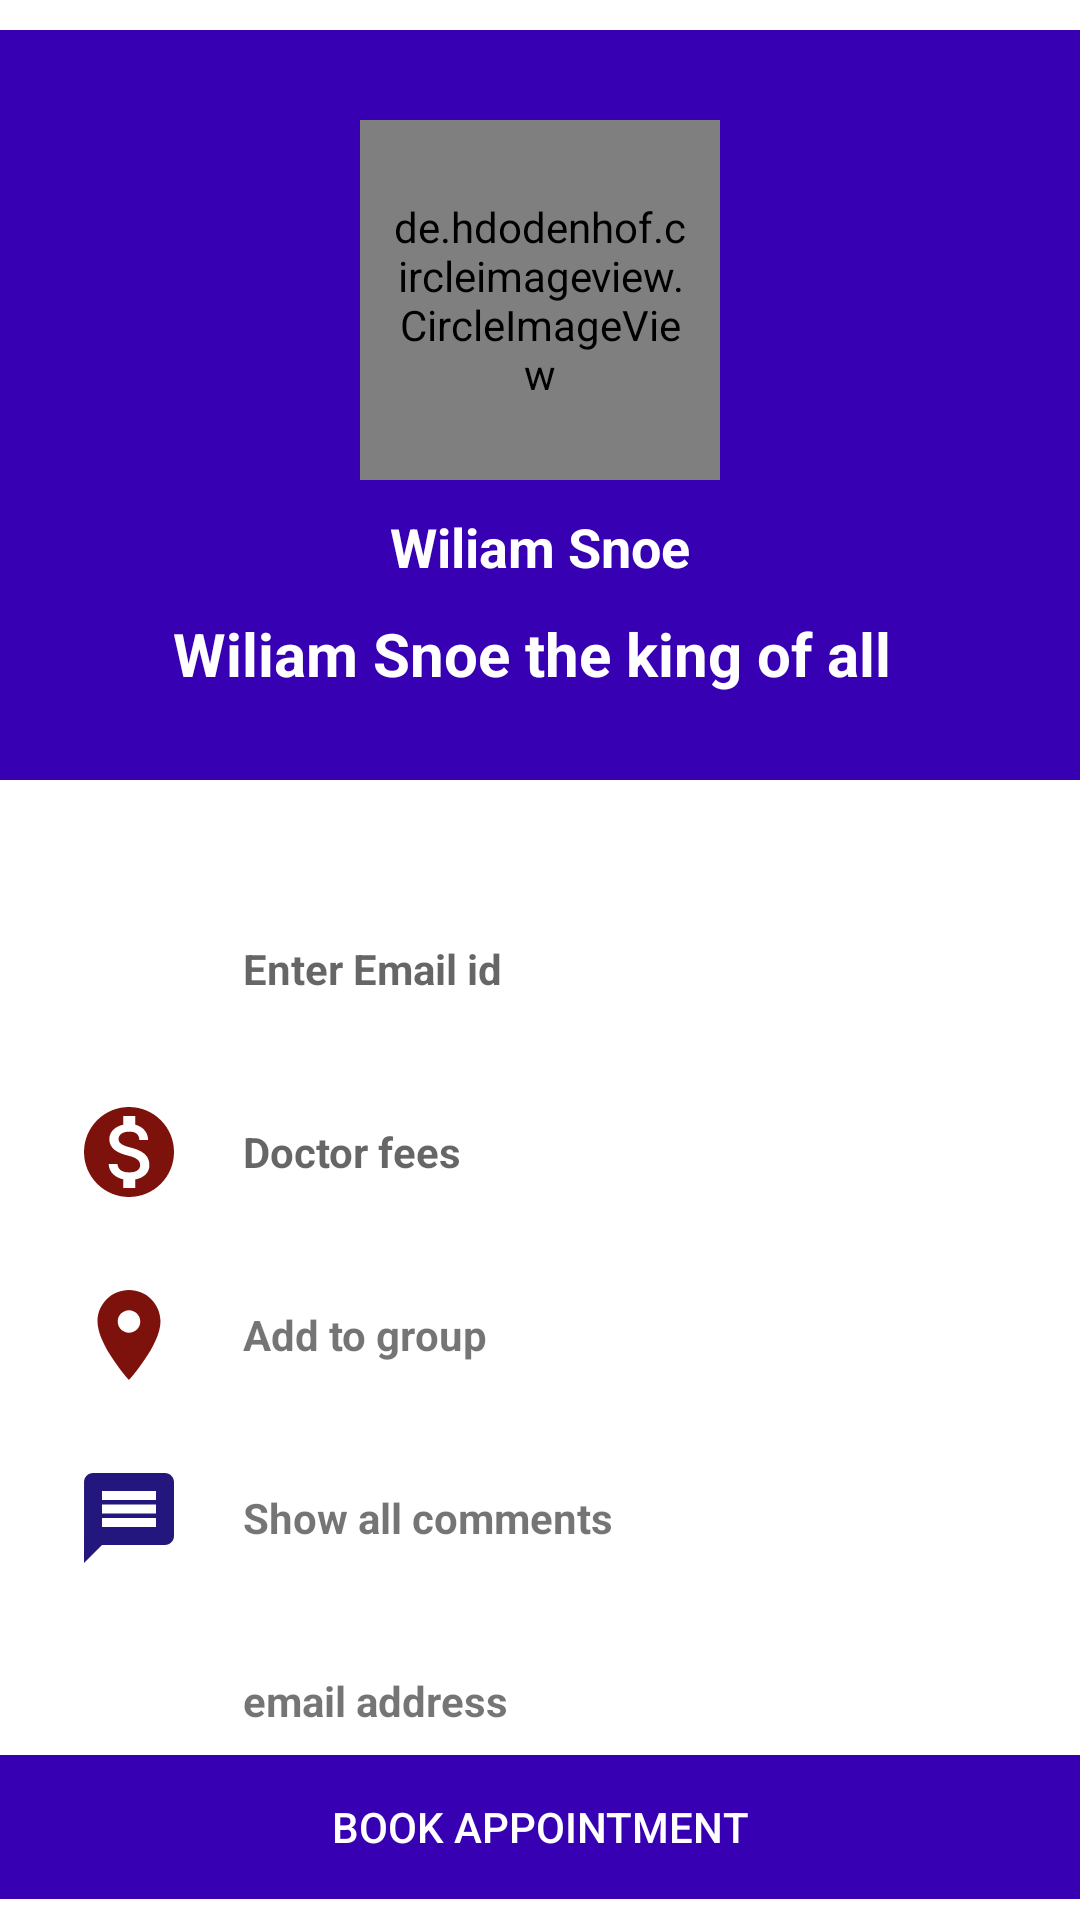

Locate icon controls on the screen. Image size 1080 × 1920, boxes as (x1, y1, x2, y2).
location on: (97, 1290, 161, 1380)
message: (84, 1473, 174, 1563)
monetization on: (84, 1107, 174, 1197)
